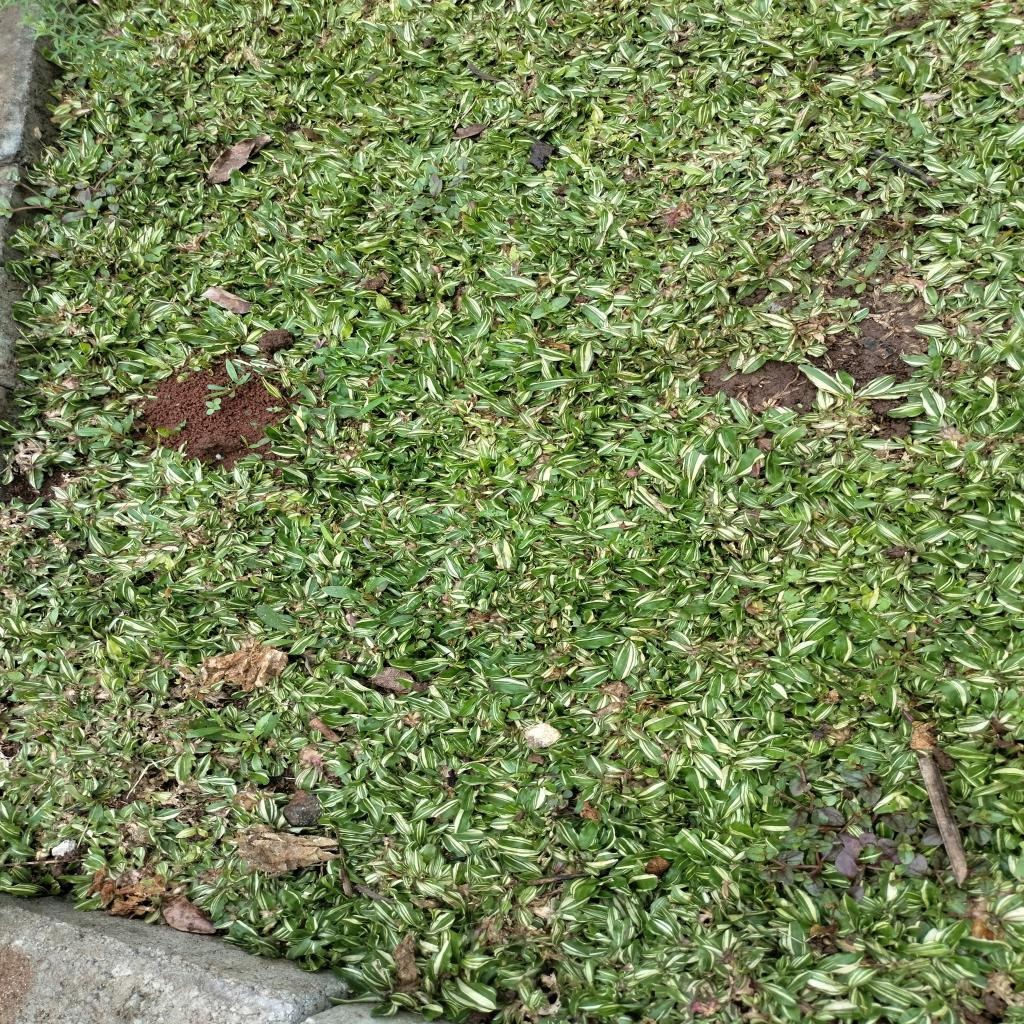akar wangi: (2, 0, 148, 95)
bayi: (834, 296, 861, 313), (204, 396, 222, 416), (267, 404, 284, 414), (796, 402, 804, 410)
gingseng jawa: (219, 710, 275, 760), (249, 602, 305, 650), (202, 355, 256, 402), (319, 580, 391, 615), (68, 411, 136, 447), (835, 259, 890, 296), (543, 487, 589, 509), (509, 764, 548, 788), (31, 645, 60, 676), (238, 432, 270, 453)
lumut besar: (618, 522, 676, 560), (637, 503, 671, 524)
masker: (784, 568, 806, 584), (782, 588, 801, 604), (834, 600, 852, 616), (875, 596, 893, 612), (811, 601, 823, 608), (807, 594, 817, 602), (836, 608, 845, 616)
rambat atas: (338, 348, 395, 372), (318, 519, 352, 554), (356, 392, 397, 421), (625, 426, 644, 470)
ungu tunggang: (755, 744, 1005, 900), (0, 139, 147, 230), (399, 157, 478, 222), (527, 294, 575, 322), (126, 111, 184, 134)
